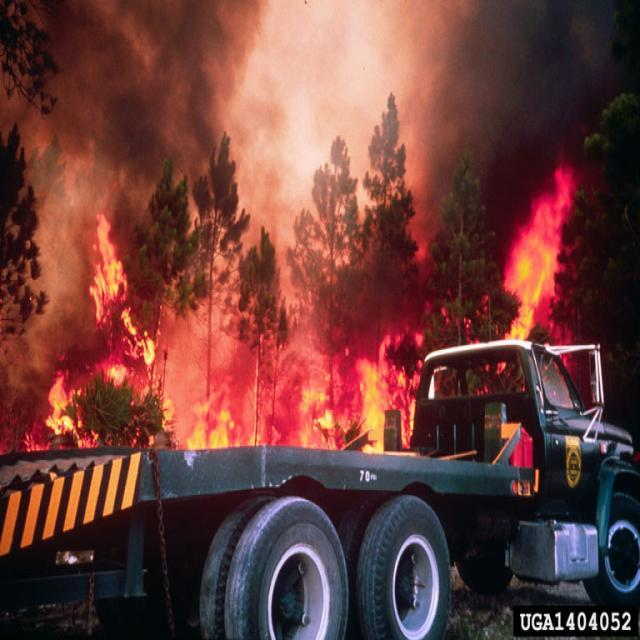Fire: (46, 167, 574, 452)
